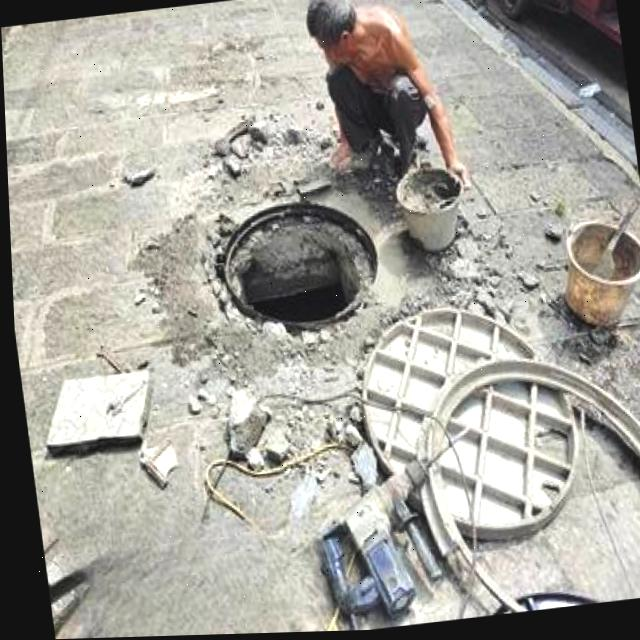manhole: (199, 178, 389, 350)
